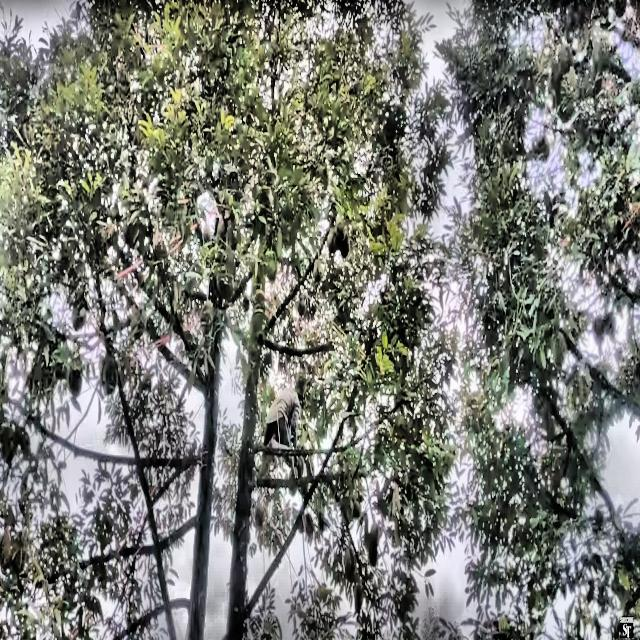arvore: (162, 157, 243, 640), (214, 170, 278, 640)
